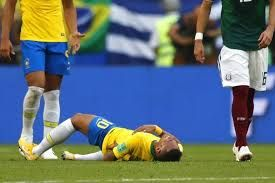fall: (14, 102, 182, 163)
